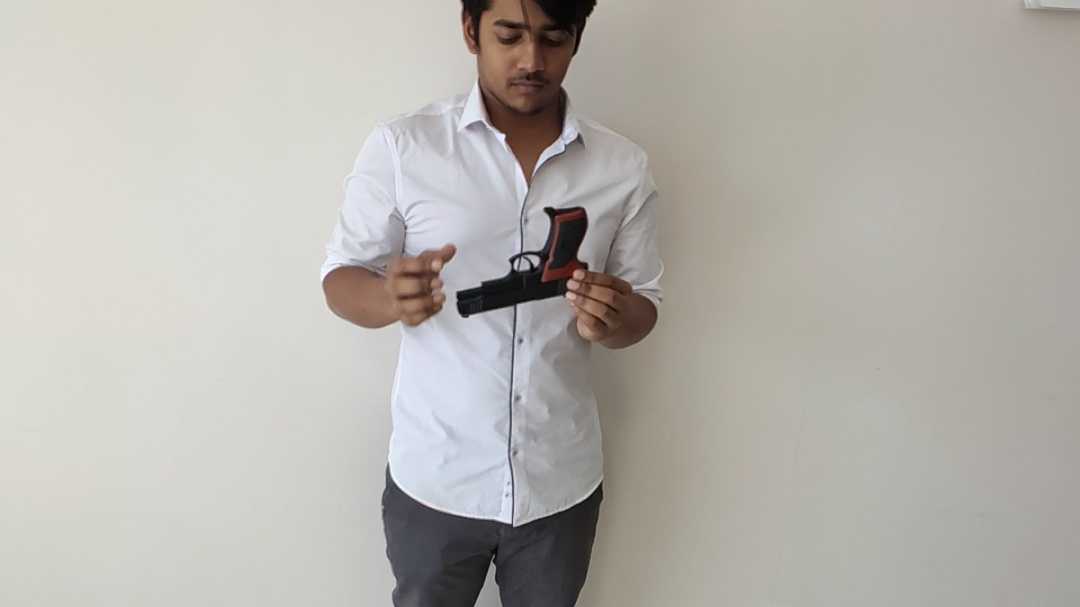gun: (192, 85, 903, 577)
